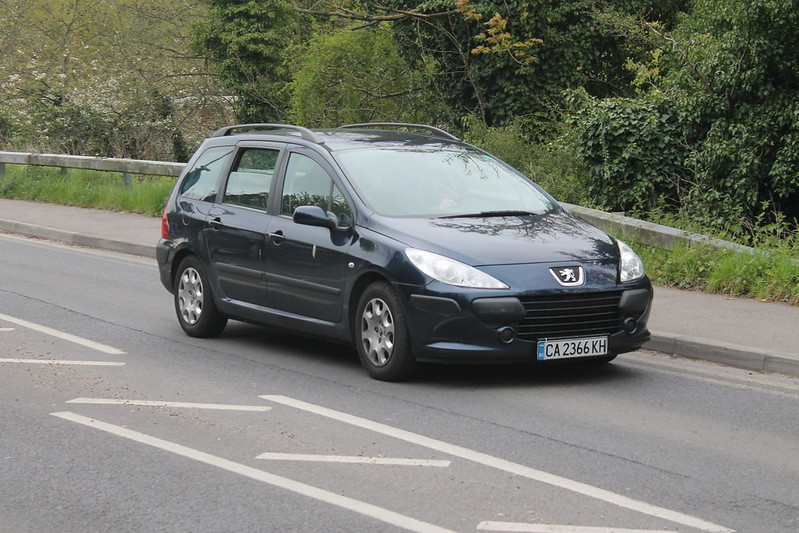number_plate: (533, 333, 614, 360)
